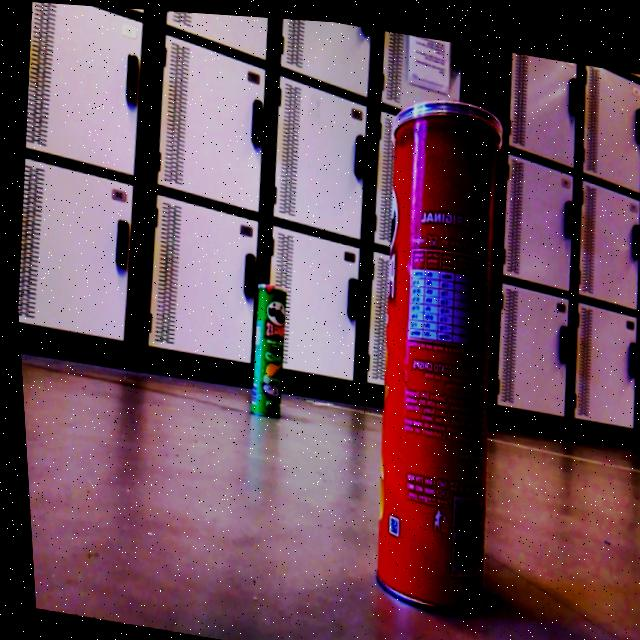greenpringles: (220, 262, 307, 425)
redpringles: (323, 76, 558, 620)
